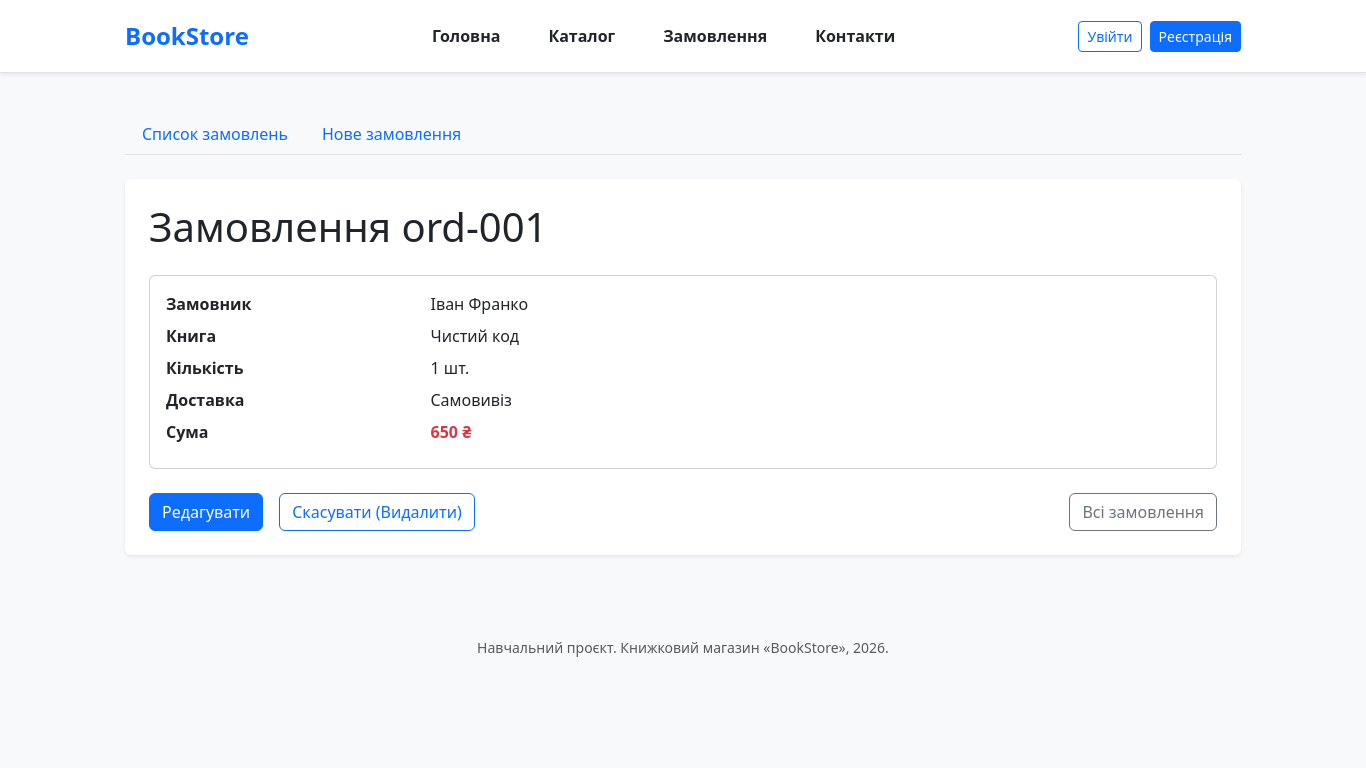
Test: Інтеграційні та компонентні тести BookStore › перевіряє підтвердження видалення та обробляє невідомі маршрути (404)
Later steps or results of the test are not shown.
Click the button "Скасувати (Видалити)".
click(377, 512)  # box [279,493,475,531]
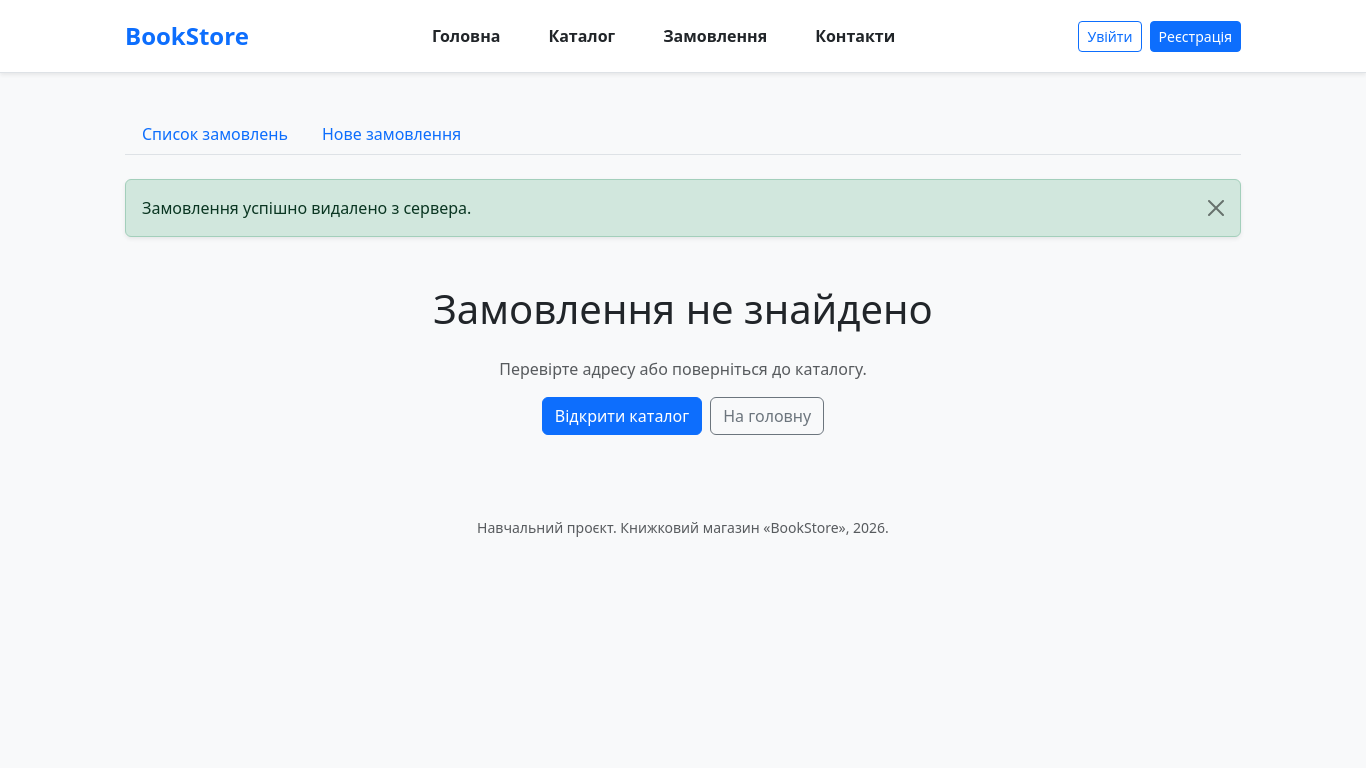
Result: the text "Замовлення успішно видалено з сервера." is shown at [125,179,1241,237]
